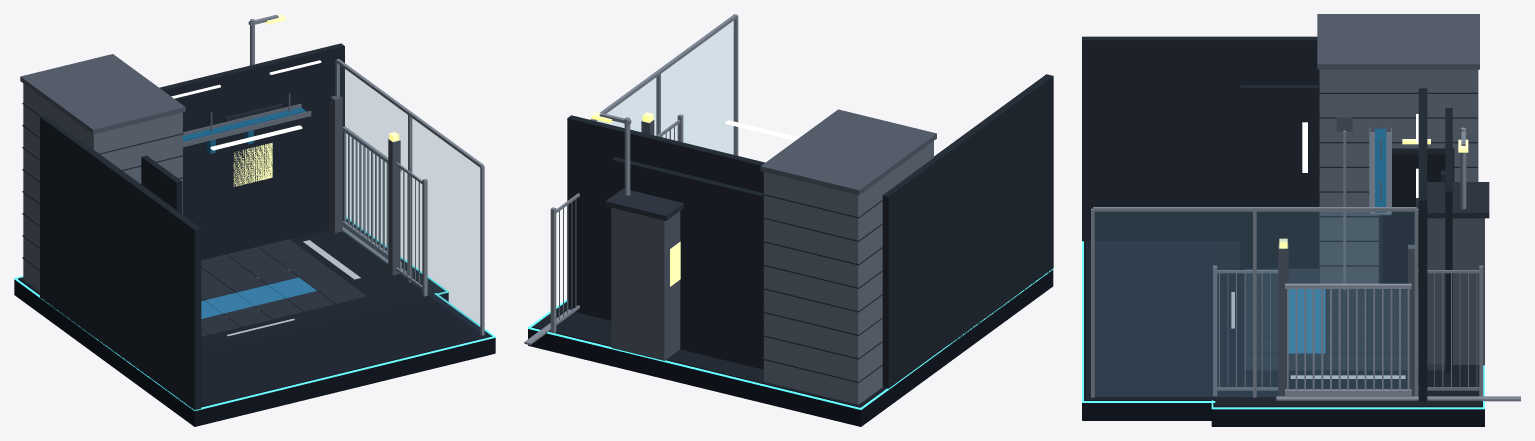
Rendered from alarm-journey-sets.glb.
3 views of the same model, side by side, from view 1: azimuth 30°, elevation 25°; view 2: azimuth 150°, elevation 25°; view 3: azimuth 270°, elevation 25° (orthographic). The views are drawn at different scales.
Parts seen in each view (by area): view 1: Operators_Set, Field_Set, Core_Set, Gate_Leaf; view 2: Field_Set, Operators_Set, Core_Set; view 3: Operators_Set, Field_Set, Core_Set, Gate_Leaf.
Boxes of the visible parts, bbox=[...] form: Operators_Set: bbox=[40, 43, 495, 426]; Field_Set: bbox=[14, 14, 448, 383]; Core_Set: bbox=[141, 93, 366, 336]; Gate_Leaf: bbox=[342, 126, 401, 267]; Field_Set: bbox=[524, 109, 991, 426]; Operators_Set: bbox=[567, 14, 1053, 405]; Core_Set: bbox=[611, 120, 799, 369]; Operators_Set: bbox=[1082, 36, 1427, 420]; Field_Set: bbox=[1211, 14, 1520, 426]; Core_Set: bbox=[1240, 85, 1452, 372]; Gate_Leaf: bbox=[1285, 283, 1411, 395].
Bounding box in the file's own units: 5.6 × 3.88 × 6.1.
